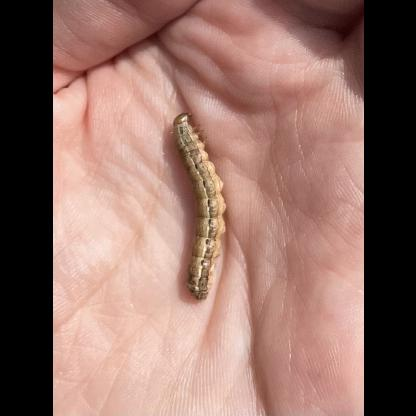Fall Armyworm Larvae: (171, 110, 228, 304)
